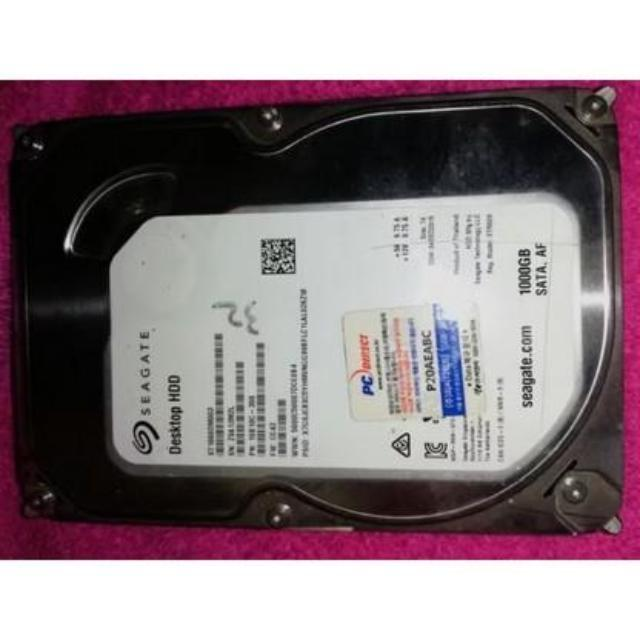DISK: (12, 103, 630, 534)
